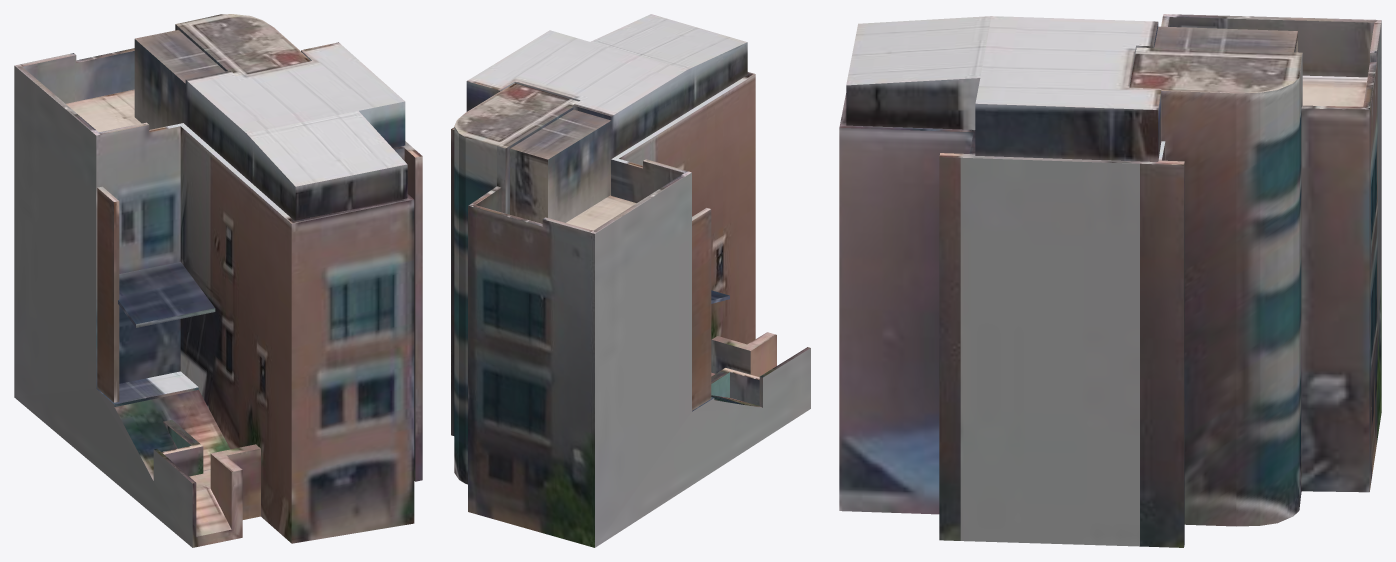
3 renders of one model, left to right at view 1: azimuth 30°, elevation 25°; view 2: azimuth 150°, elevation 25°; view 3: azimuth 270°, elevation 25°, orthographic. The views are drawn at different scales.
Parts seen in each view (by area): view 1: B280524041301063A0; view 2: B280524041301063A0; view 3: B280524041301063A0.
Boxes of the visible parts, x1=… form: B280524041301063A0: x1=14, y1=14, x2=422, y2=547; B280524041301063A0: x1=451, y1=14, x2=810, y2=547; B280524041301063A0: x1=839, y1=14, x2=1381, y2=547.
Bounding box in the file's own units: 8.83 × 11.92 × 13.45.
1 material, 1 textured.
